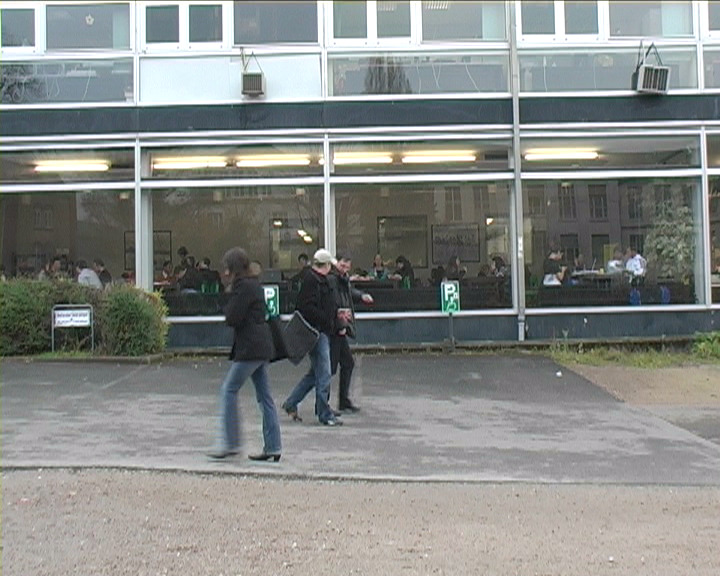deflection: (304, 246, 336, 327)
